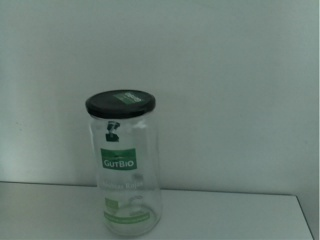pote cristal: (84, 89, 162, 240)
